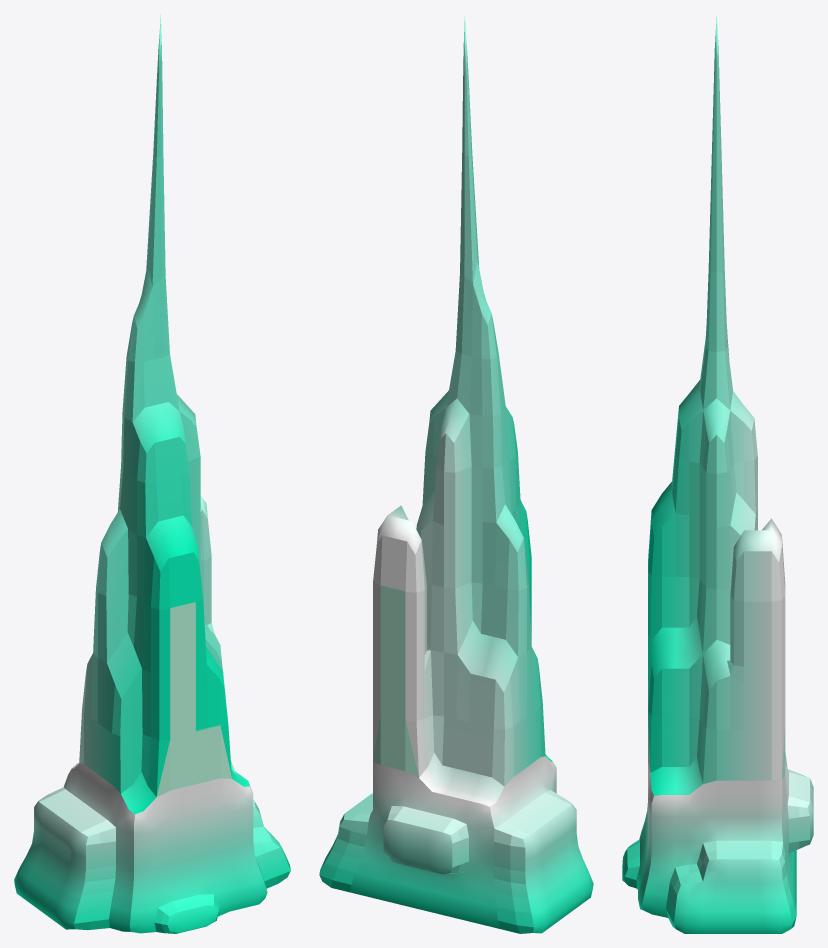
Rendered from kurisutaru.FBX.
3 views of the same model, side by side, from view 1: azimuth 30°, elevation 25°; view 2: azimuth 150°, elevation 25°; view 3: azimuth 270°, elevation 25° (orthographic).
Visible parts, largest first — view 1: Box001; view 2: Box001; view 3: Box001.
Boxes of the visible parts, x1,y1,x2,y2 form: Box001: [14, 14, 290, 933]; Box001: [319, 15, 593, 933]; Box001: [622, 16, 813, 933].
Size of the model in its own units: 820 by 605 by 3036.
